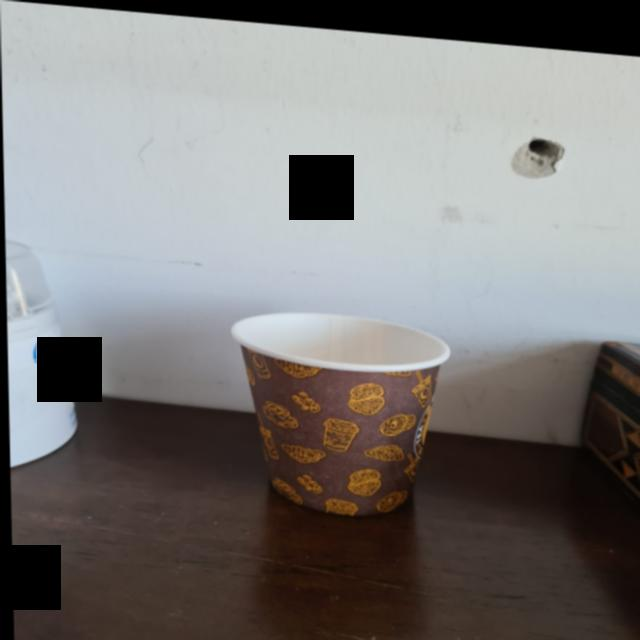cups: (226, 298, 449, 519)
